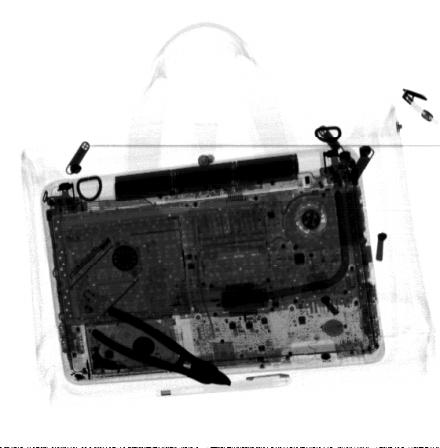Pliers: (90, 302, 232, 389)
